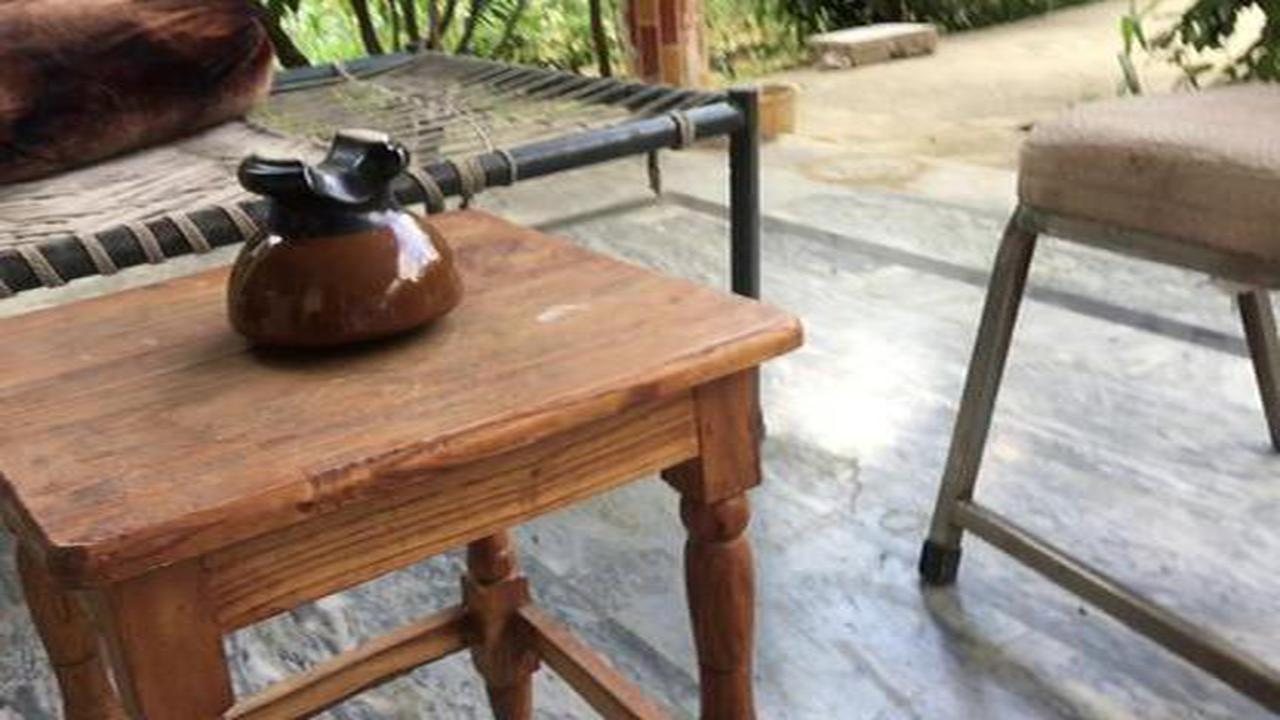insulator_pin: (210, 116, 477, 374)
